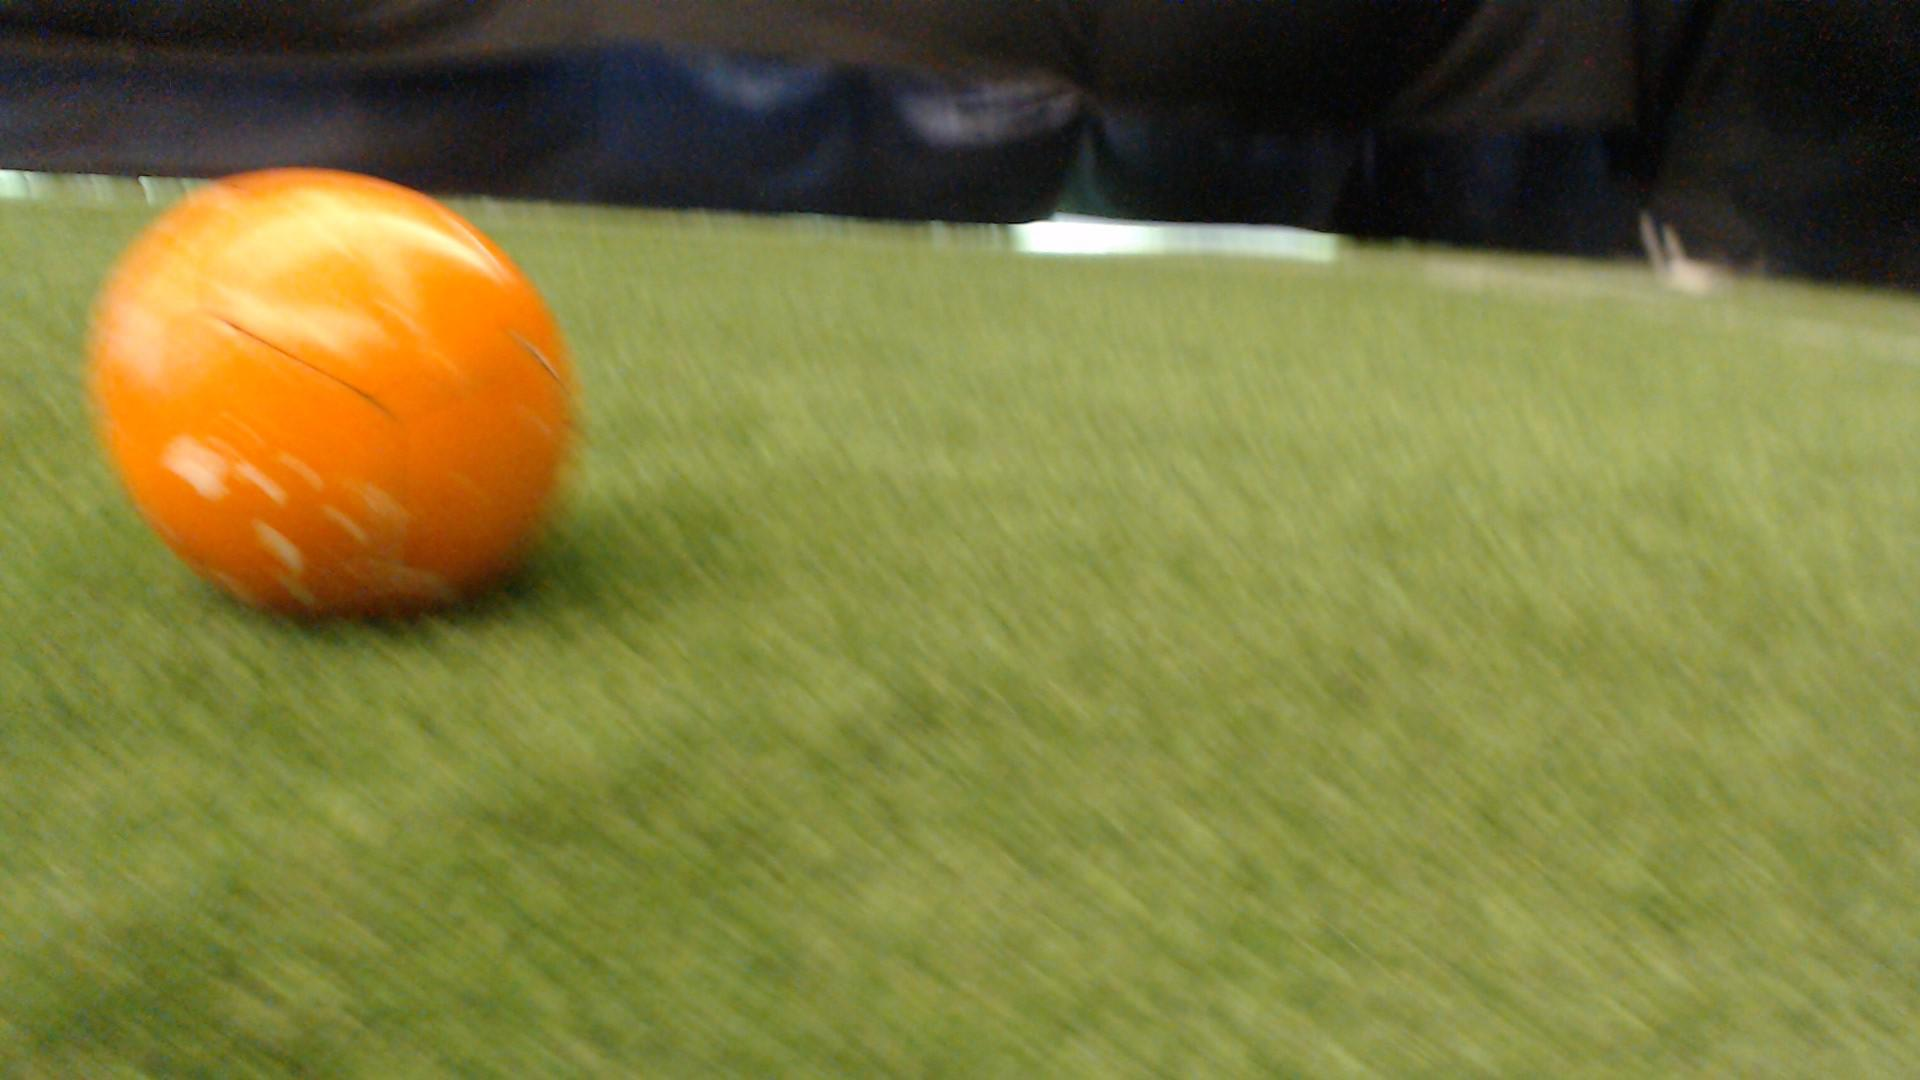bola: (74, 162, 605, 646)
